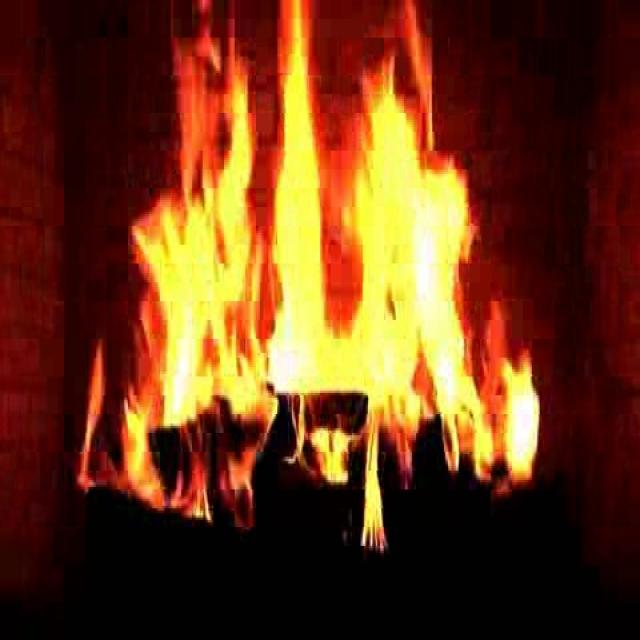fire: (107, 31, 544, 532)
